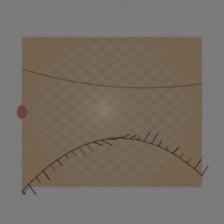corneal_ulcer: (78, 84, 143, 136)
